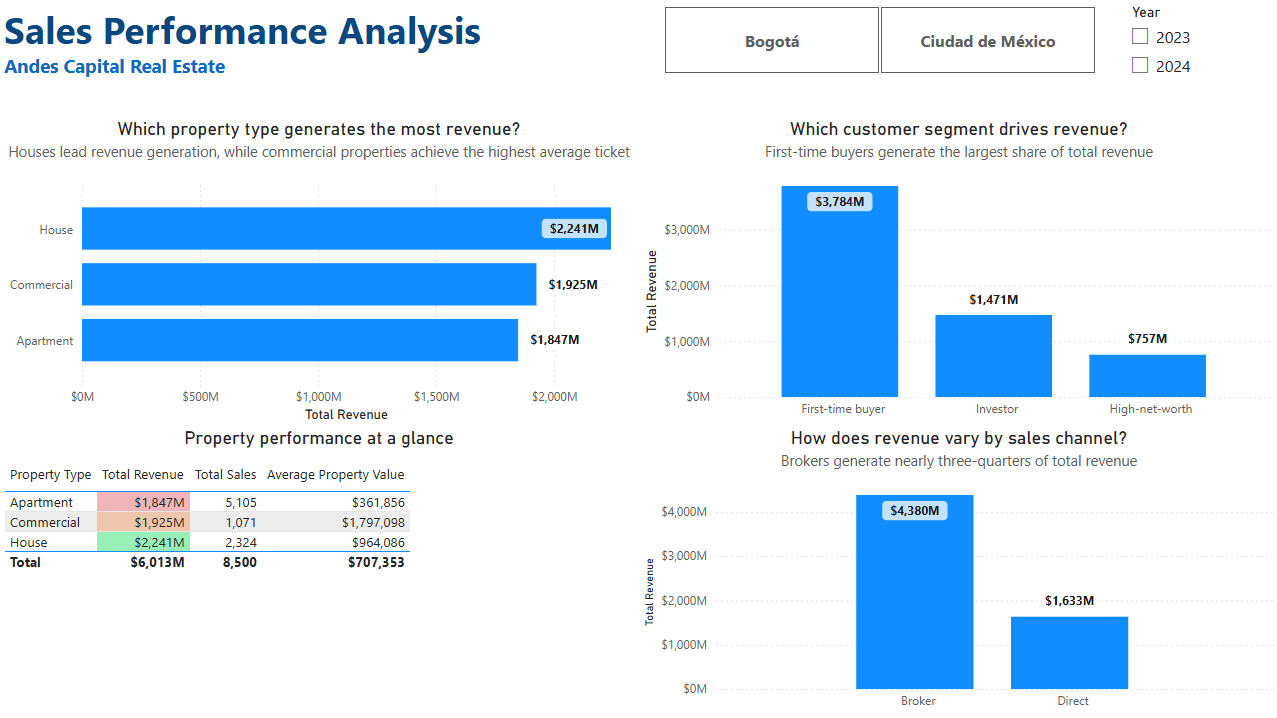

This screenshot's page, from the dashboard's own definition file:
{"tool":"powerbi","page":{"name":"Sales Performance","canvas":[1280,720],"ordinal":1},"visuals":[{"type":"textbox","box":[0,0,640,118.9],"z":0},{"type":"clusteredBarChart","title":"Which property type generates the most revenue?","fields":{"Category":["dim_propiedades.tipo_propiedad"],"Y":["Medidas.m_4.1_Ingreso Total"]},"box":[0,118.9,640,308.9],"z":1000},{"type":"clusteredColumnChart","title":"Which customer segment drives revenue?","fields":{"Category":["dim_clientes.segmento_comprador"],"Y":["Medidas.m_4.1_Ingreso Total"]},"box":[640,118.9,640,308.9],"z":2000},{"type":"clusteredColumnChart","title":"How does revenue vary by sales channel?","fields":{"Y":["Medidas.m_4.1_Ingreso Total"],"Category":["hecho_ventas_propiedades.canal_venta"]},"box":[640,427.8,640,292.2],"z":3000},{"type":"tableEx","title":"Property performance at a glance","fields":{"Values":["dim_propiedades.tipo_propiedad","Medidas.m_4.1_Ingreso Total","Medidas.m_4.1_Cantidad de Ventas","Medidas.m_4.1_Ticket Promedio"]},"box":[0,427.8,640,292.2],"z":4000},{"type":"slicer","fields":{"Values":["dim_date.Year"]},"box":[1120,0,160,118.9],"z":5000},{"type":"slicer","fields":{"Values":["hecho_ventas_propiedades.ciudad"]},"box":[640,1.1,480,80],"z":6000}]}

Visuals, with their boxes in screenshot pixels (x1, y1, x2, y2), scaled from the page's 1280x720 canvas onto the 1277x718 screenshot:
textbox: rect(0, 0, 638, 119)
"Which property type generates the most revenue?" clusteredBarChart: rect(0, 119, 638, 427)
"Which customer segment drives revenue?" clusteredColumnChart: rect(638, 119, 1276, 427)
"How does revenue vary by sales channel?" clusteredColumnChart: rect(638, 427, 1276, 717)
"Property performance at a glance" tableEx: rect(0, 427, 638, 717)
slicer - dim_date.Year: rect(1117, 0, 1276, 119)
slicer - hecho_ventas_propiedades.ciudad: rect(638, 1, 1117, 81)
